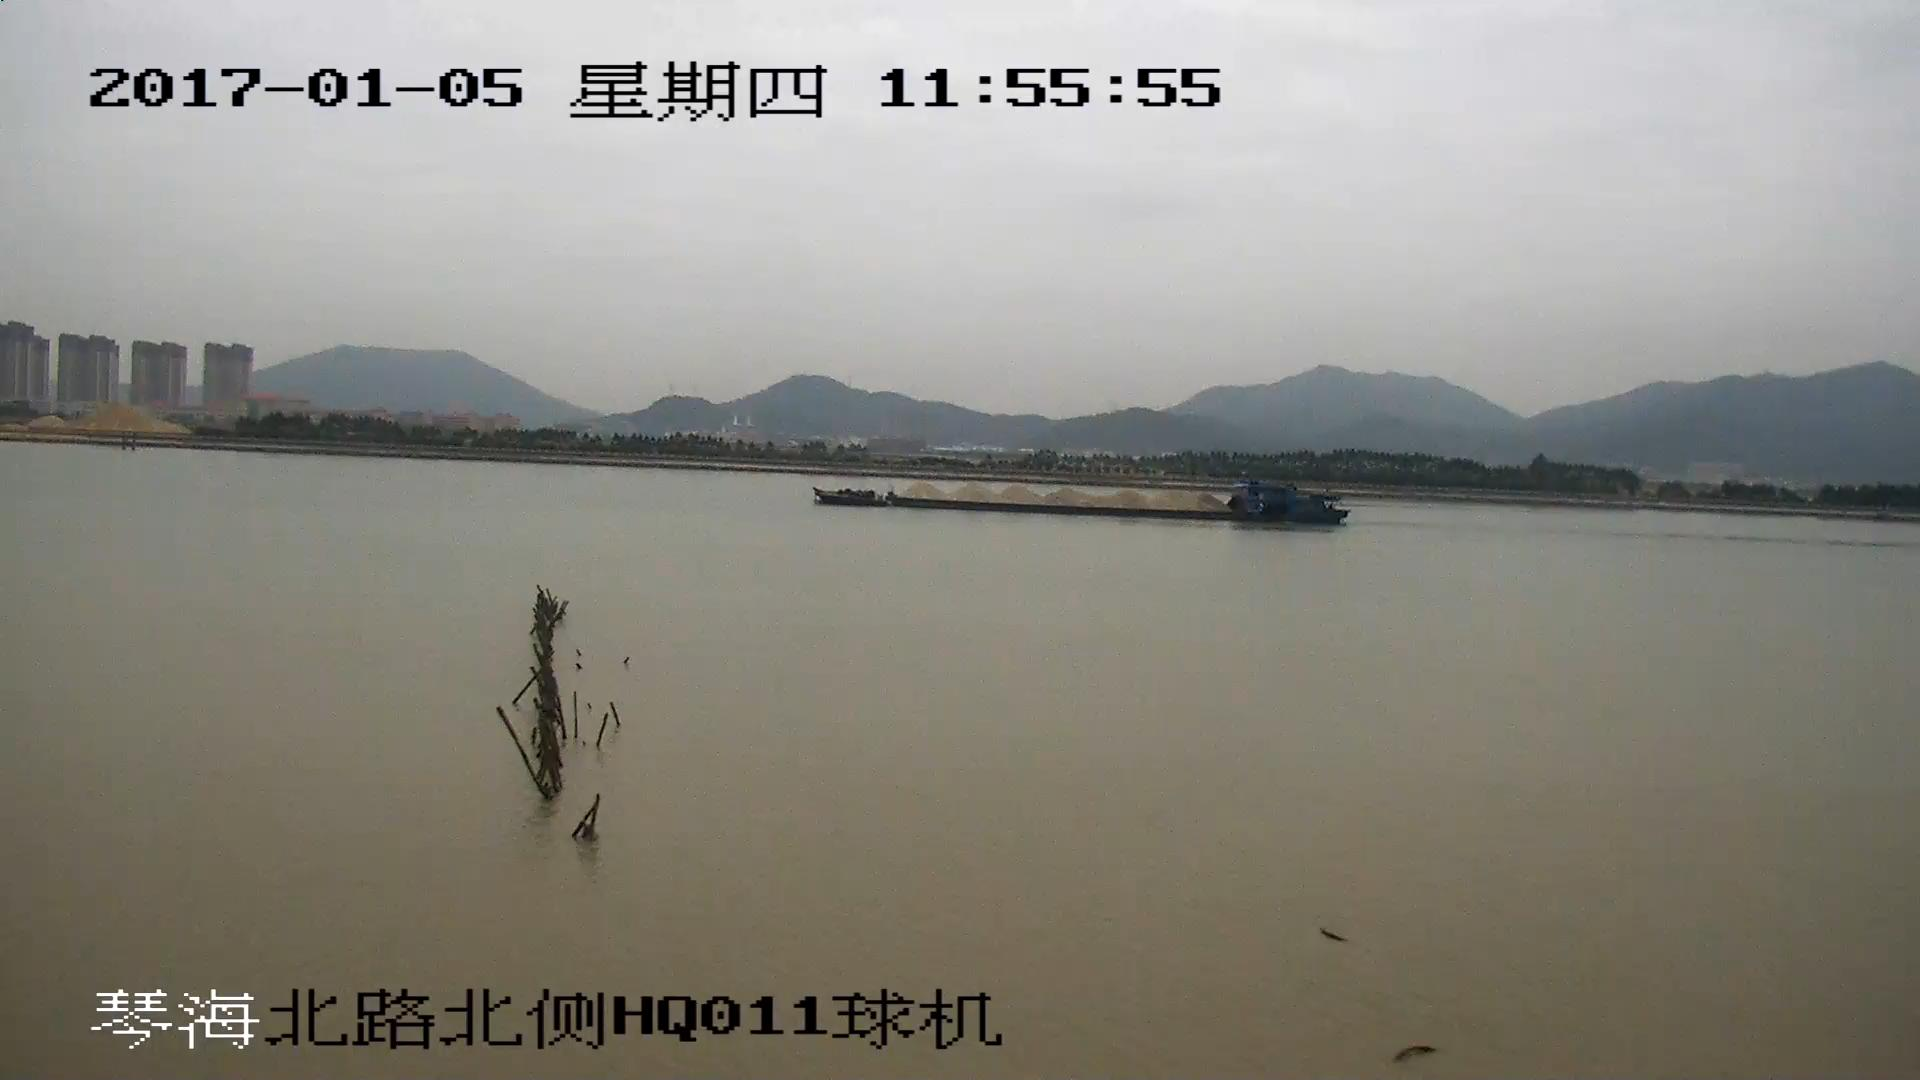ore carrier: (814, 478, 1352, 528)
